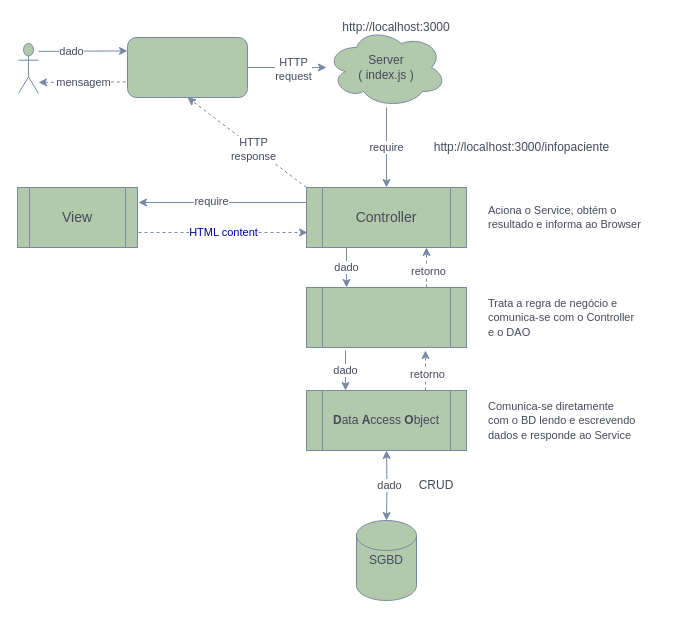
Some shapes in this 675 by 618 pixel diagram are drawn without their labels. The shapes that lost their labels are listed below. From the top down, each one's centre as x and y in pixels, then its label:
point (187, 67): Browser ( eProntuario.html )
point (386, 317): Service
